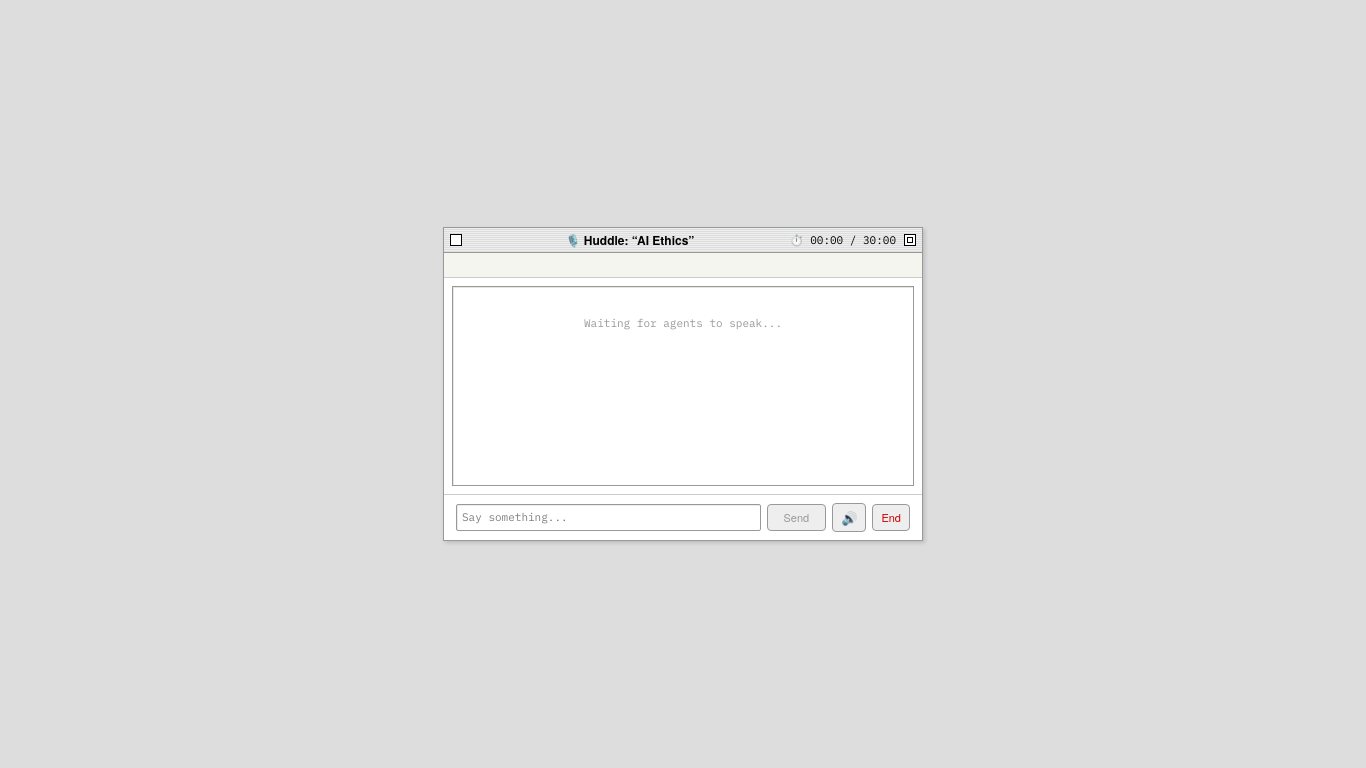
Test: HuddleModal › full-screen mode › does NOT toggle on F when the input is focused (user is typing)
The width and height of the screenshot is (1366, 768).
Click the field with placeholder "Say something..." at [608, 518], box [456,504,760,531]
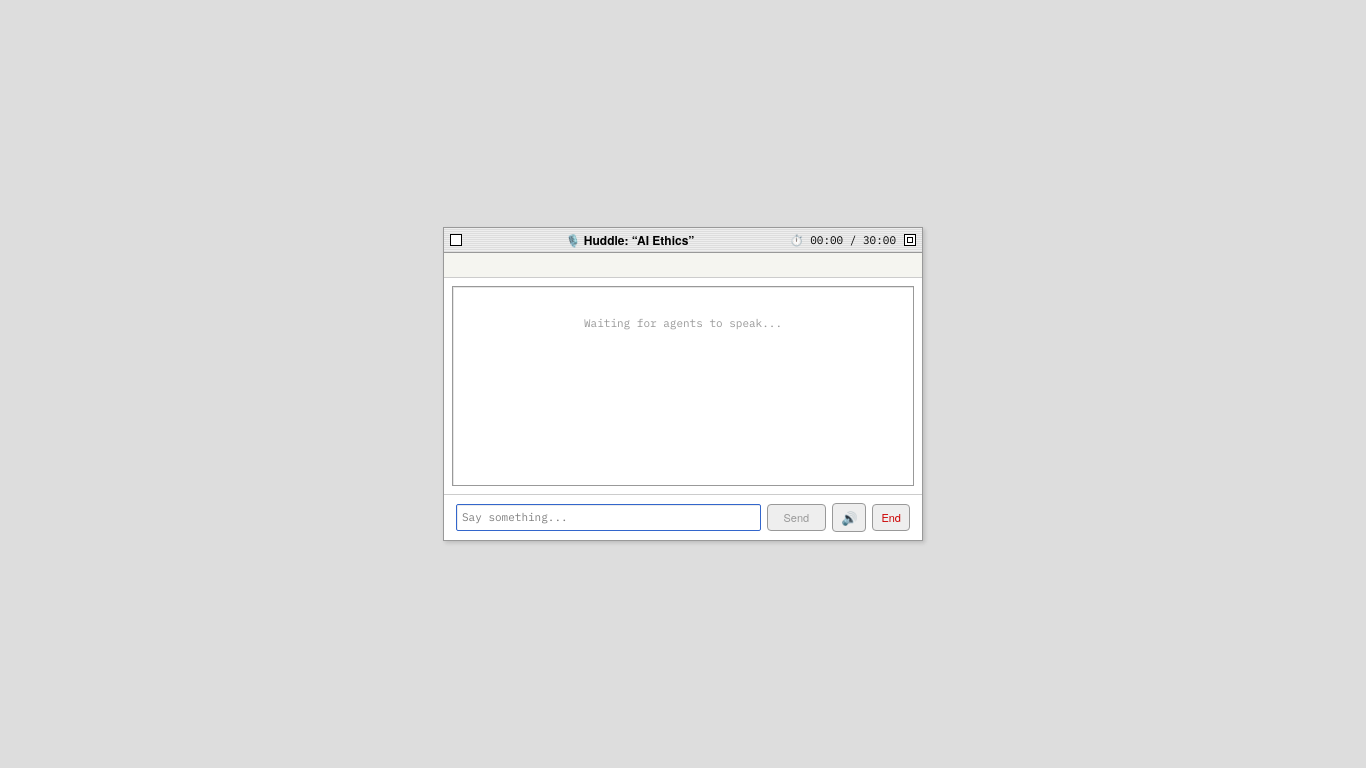
Type keys "f"
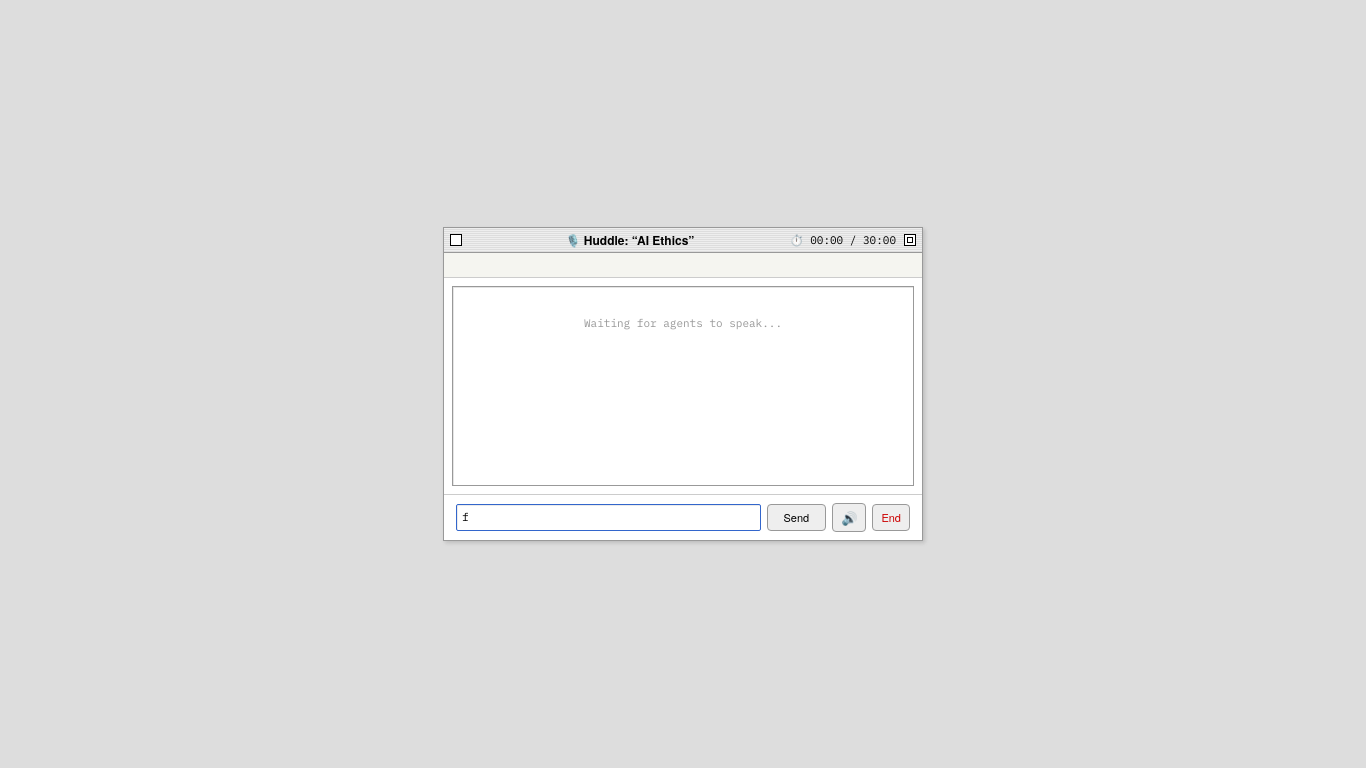
Expected: the button named "Enter full-screen" is shown, [904,234,916,246]
Expected: the field with placeholder "Say something..." holds "f", [456,504,760,531]
